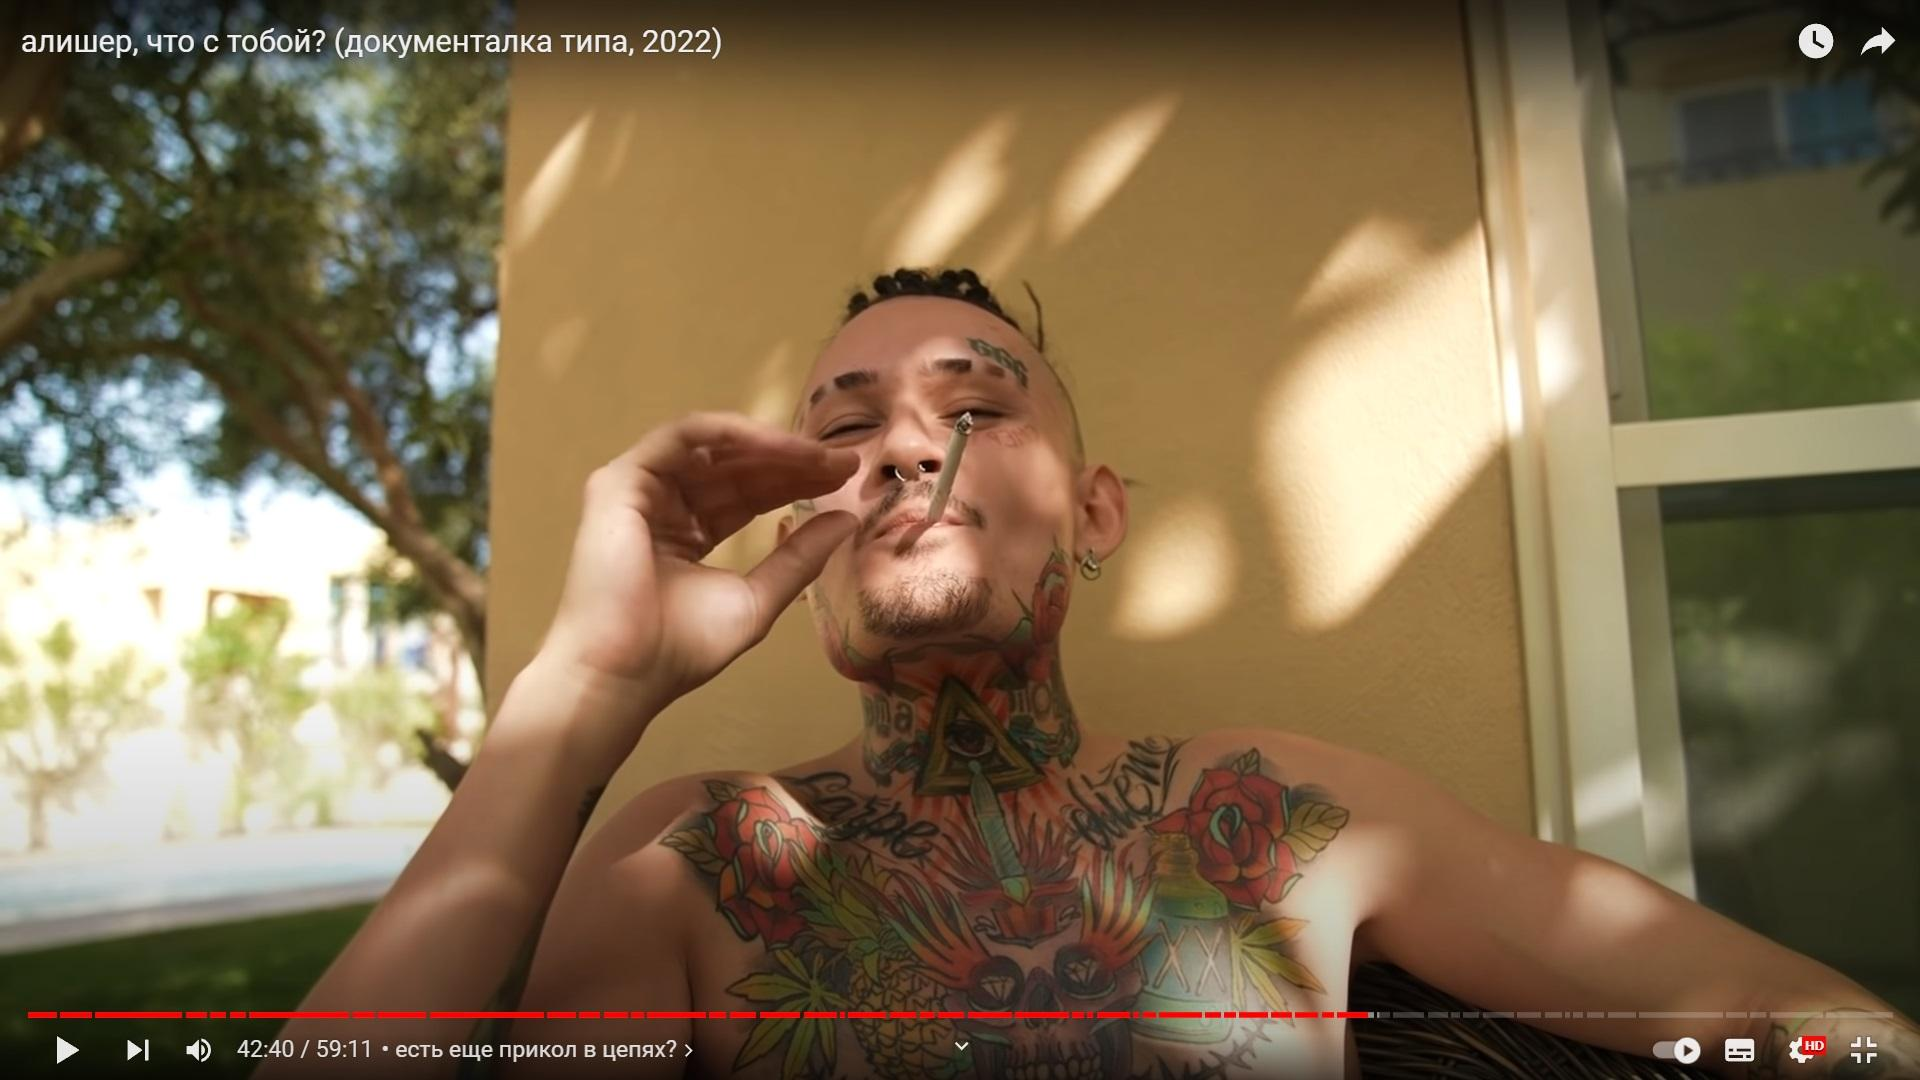cigarette: (924, 410, 975, 525)
